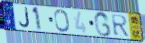1: (32, 7, 42, 31)
4: (74, 11, 88, 35)
G: (93, 11, 113, 38)
J: (18, 7, 31, 29)
O: (53, 9, 71, 34)
R: (110, 14, 130, 38)
